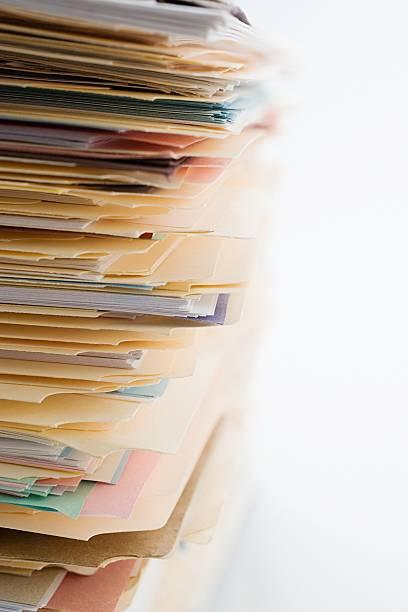paper: (0, 1, 309, 612)
